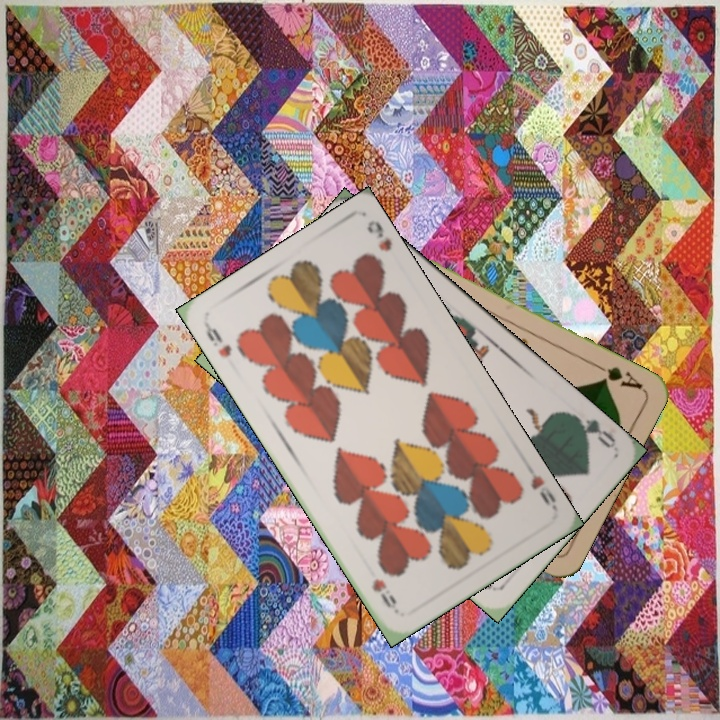GA: (589, 359, 646, 392)
GO: (565, 409, 619, 451)
H9: (521, 459, 559, 512), (201, 319, 235, 360)
